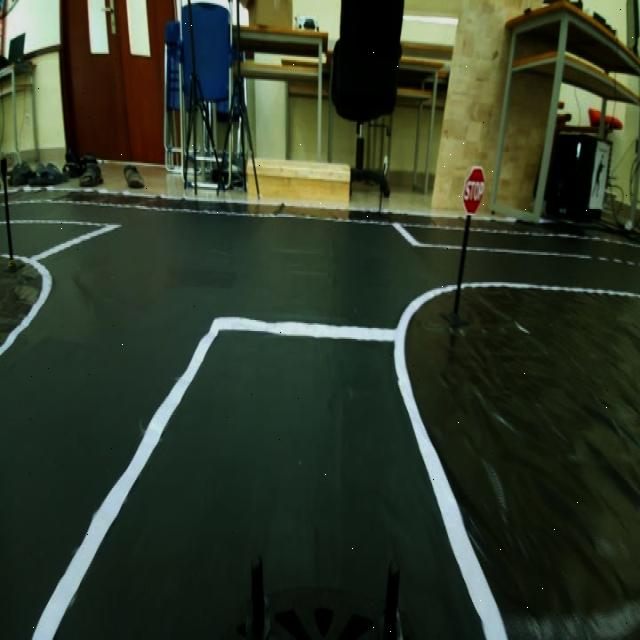stop: (456, 158, 491, 218)
